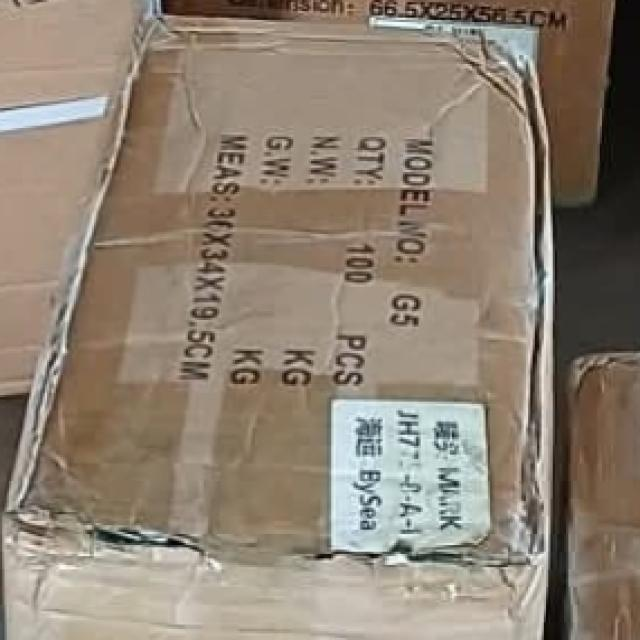carton_box: (20, 2, 626, 640)
export_mark_label: (313, 388, 497, 552)
package_damage: (0, 0, 170, 589), (9, 481, 564, 598), (470, 31, 578, 584)
